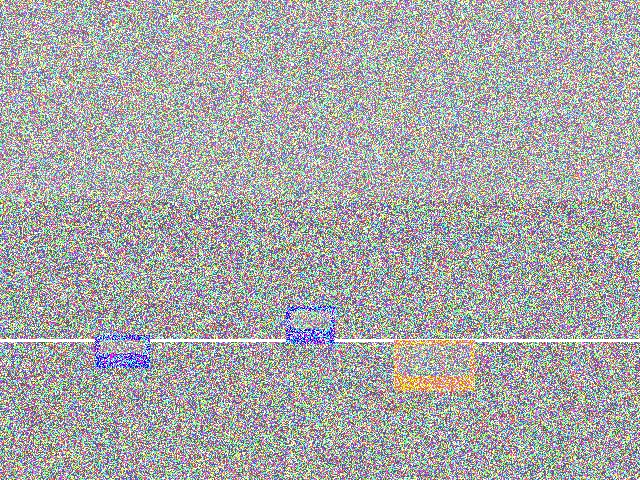bus: (451, 346, 526, 436)
